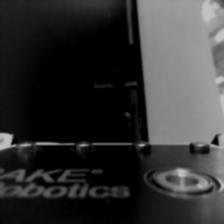Door Handle: (92, 45, 138, 89)
Lock: (116, 108, 138, 136)
